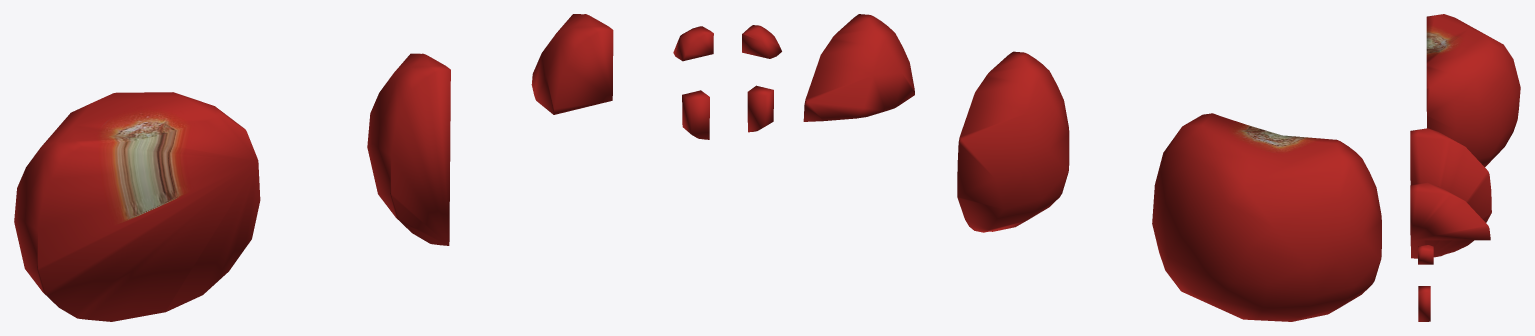
Rendered from tomato.fbx.
3 views of the same model, side by side, from view 1: azimuth 30°, elevation 25°; view 2: azimuth 150°, elevation 25°; view 3: azimuth 270°, elevation 25° (orthographic). The views are drawn at different scales.
Visible parts, largest first — view 1: TomatoFull_Mid__250_Tris_.002, TomatoFull_Mid__250_Tris_.003, TomatoFull_Mid__250_Tris_.006, TomatoFull_Mid__250_Tris_.001, TomatoFull_Mid__250_Tris_.004; view 2: TomatoFull_Mid__250_Tris_.002, TomatoFull_Mid__250_Tris_.003, TomatoFull_Mid__250_Tris_.006, TomatoFull_Mid__250_Tris_.001, TomatoFull_Mid__250_Tris_.004; view 3: TomatoFull_Mid__250_Tris_.002, TomatoFull_Mid__250_Tris_.003, TomatoFull_Mid__250_Tris_.006, TomatoFull_Mid__250_Tris_.001, TomatoFull_Mid__250_Tris_.004.
Part boxes in pixels (x1,y1,x2,y2): TomatoFull_Mid__250_Tris_.002: (14, 92, 260, 321); TomatoFull_Mid__250_Tris_.003: (367, 53, 450, 245); TomatoFull_Mid__250_Tris_.006: (531, 14, 613, 114); TomatoFull_Mid__250_Tris_.001: (682, 90, 709, 139); TomatoFull_Mid__250_Tris_.004: (673, 26, 713, 61); TomatoFull_Mid__250_Tris_.002: (1152, 113, 1381, 321); TomatoFull_Mid__250_Tris_.003: (957, 51, 1069, 232); TomatoFull_Mid__250_Tris_.006: (803, 14, 914, 121); TomatoFull_Mid__250_Tris_.001: (747, 85, 773, 132); TomatoFull_Mid__250_Tris_.004: (742, 25, 781, 58); TomatoFull_Mid__250_Tris_.002: (1426, 14, 1520, 166); TomatoFull_Mid__250_Tris_.003: (1410, 128, 1491, 258); TomatoFull_Mid__250_Tris_.006: (1410, 182, 1490, 240); TomatoFull_Mid__250_Tris_.001: (1418, 286, 1430, 321); TomatoFull_Mid__250_Tris_.004: (1418, 245, 1433, 264).
Bounding box in the file's own units: 110 × 29.7 × 22.91.
Materials: 5 (5 with a texture image).
